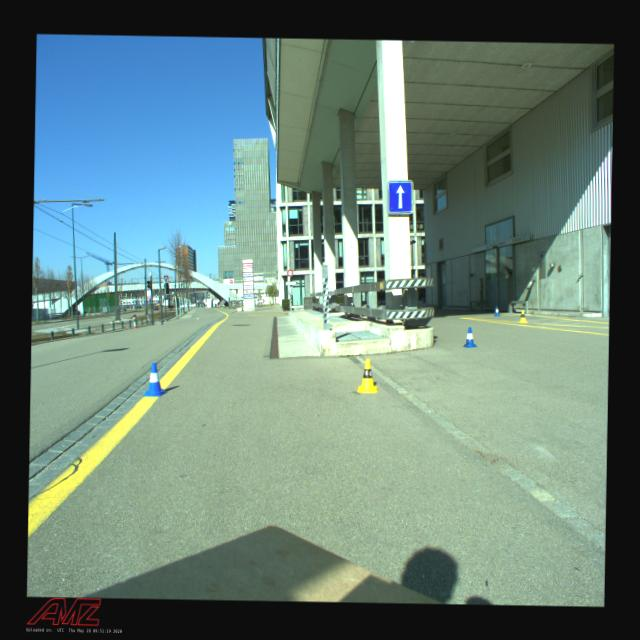blue_cone: (142, 362, 168, 396), (462, 327, 478, 348), (518, 310, 527, 322), (494, 306, 499, 316)
yellow_cone: (357, 359, 378, 393)
